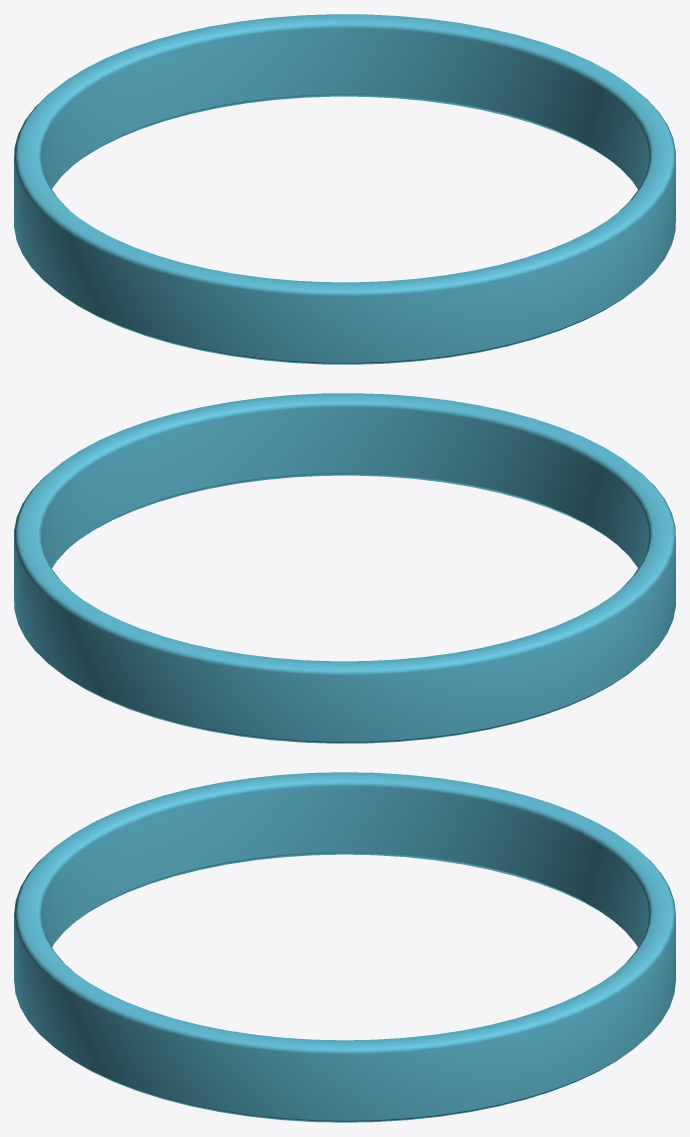
3 renders of one model, top to bottom at view 1: azimuth 30°, elevation 25°; view 2: azimuth 150°, elevation 25°; view 3: azimuth 270°, elevation 25°, orthographic.
Visible parts, largest first — view 1: seal_body; view 2: seal_body; view 3: seal_body.
Part boxes in pixels (bbox=[...]): seal_body: bbox=[14, 14, 675, 364]; seal_body: bbox=[14, 393, 675, 743]; seal_body: bbox=[14, 772, 675, 1122].
Size of the model in its own units: 0.0762 by 0.00952 by 0.0762.
